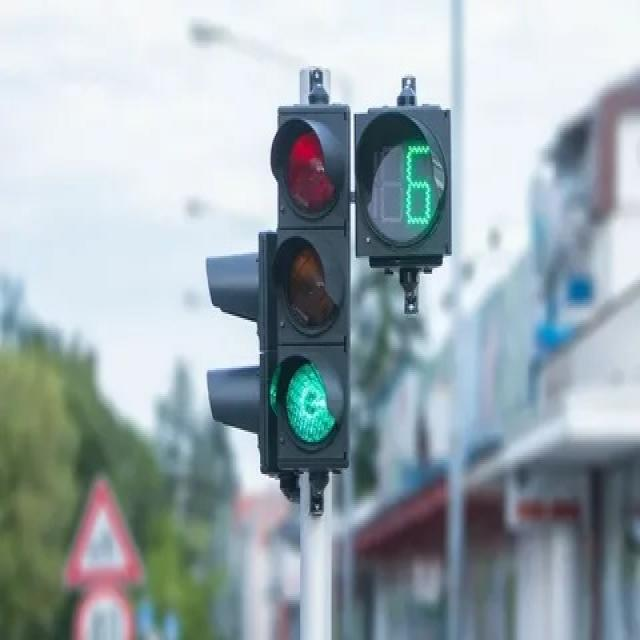yesil: (270, 104, 350, 468)
